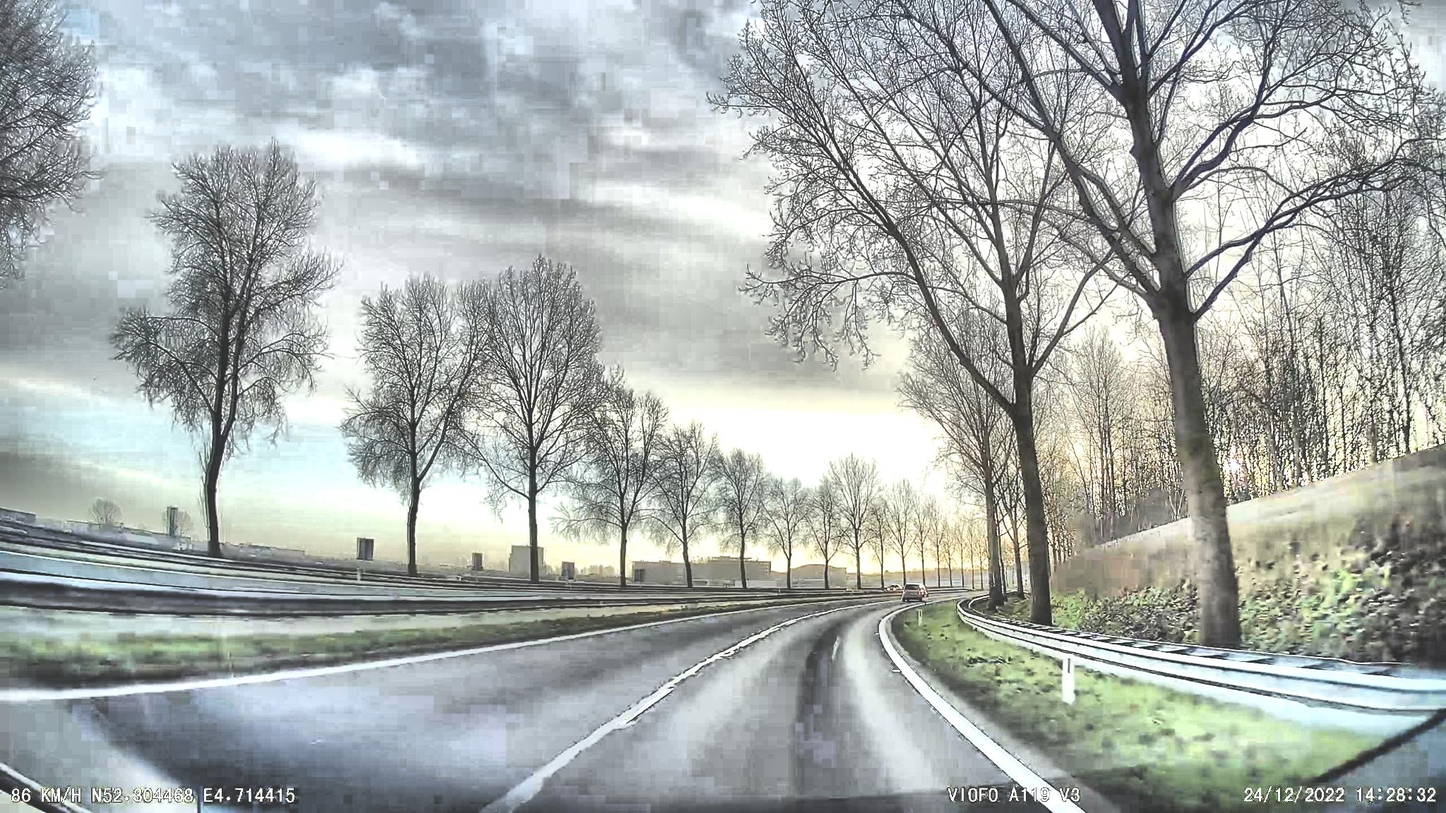Roads: (0, 606, 1162, 813)
